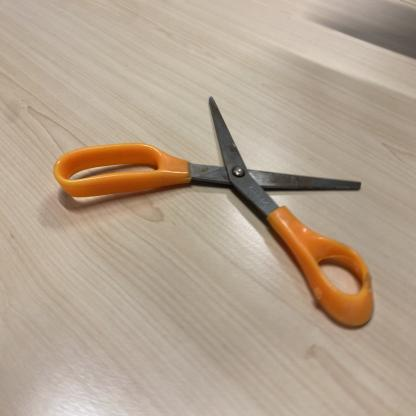scissors: (51, 94, 375, 337)
